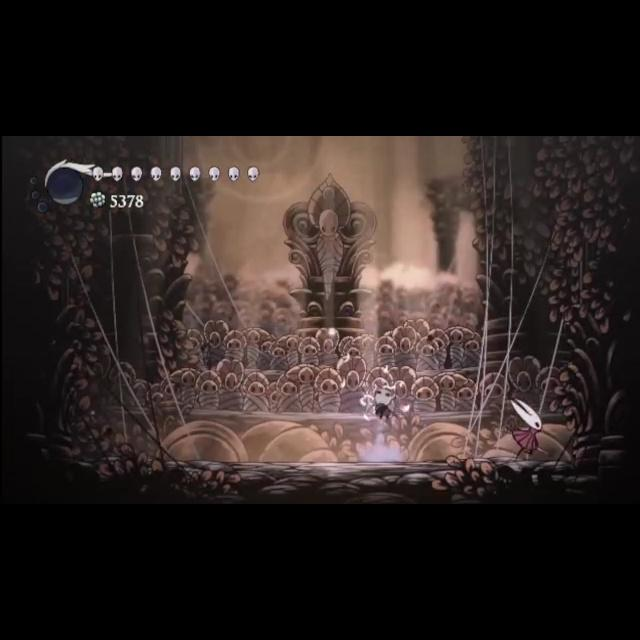Enemy: (498, 394, 560, 466)
Player: (368, 383, 402, 421)
